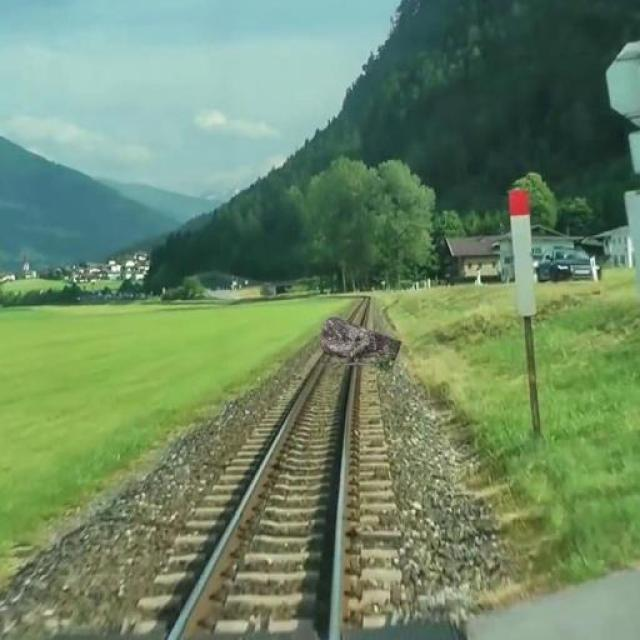Stone: (315, 311, 406, 370)
